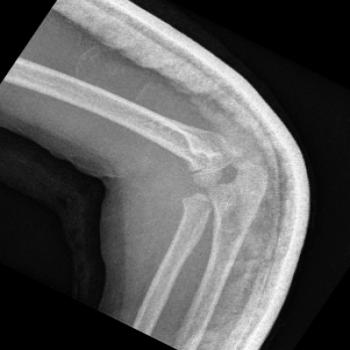Fracture: (168, 160, 216, 185)
